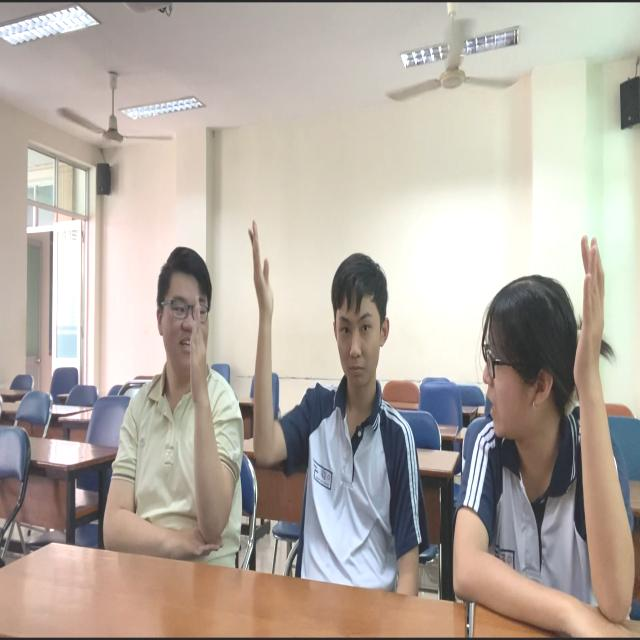raise_hand: (454, 190, 640, 640), (247, 195, 420, 626), (97, 237, 240, 575)
